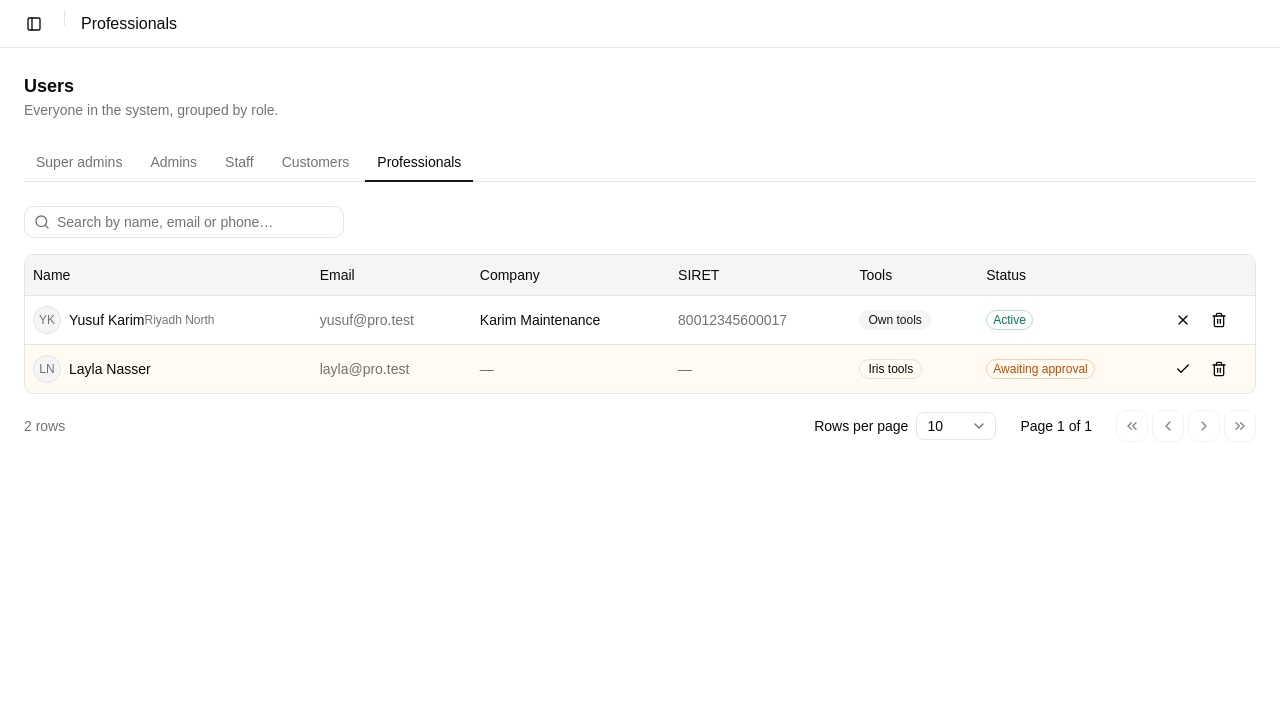
Test: row detail modal › shows a professional's profile fields
Click the text "Yusuf Karim" at (107, 320), box [69,310,144,330]
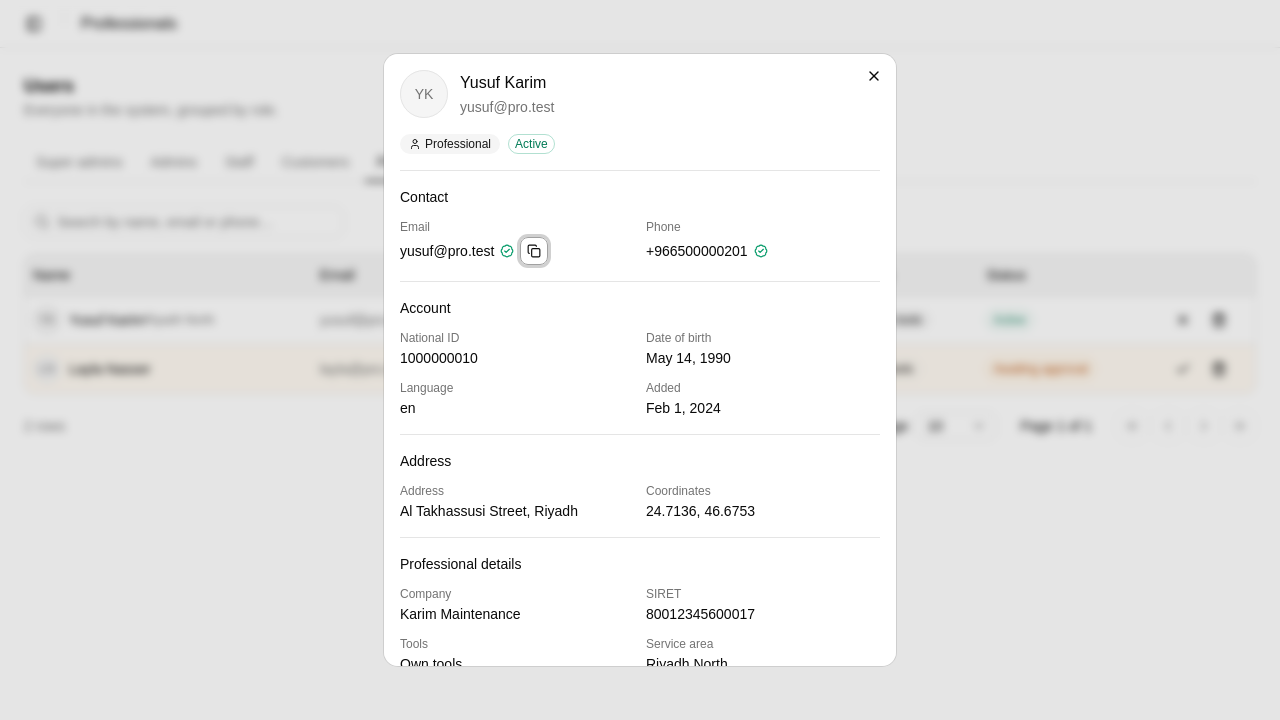
Expected: the text "Karim Maintenance" is shown, [400,606,521,622]
Expected: the text "80012345600017" is shown, [646,606,755,622]
Expected: the text "Riyadh North" is shown, [646,656,728,666]
